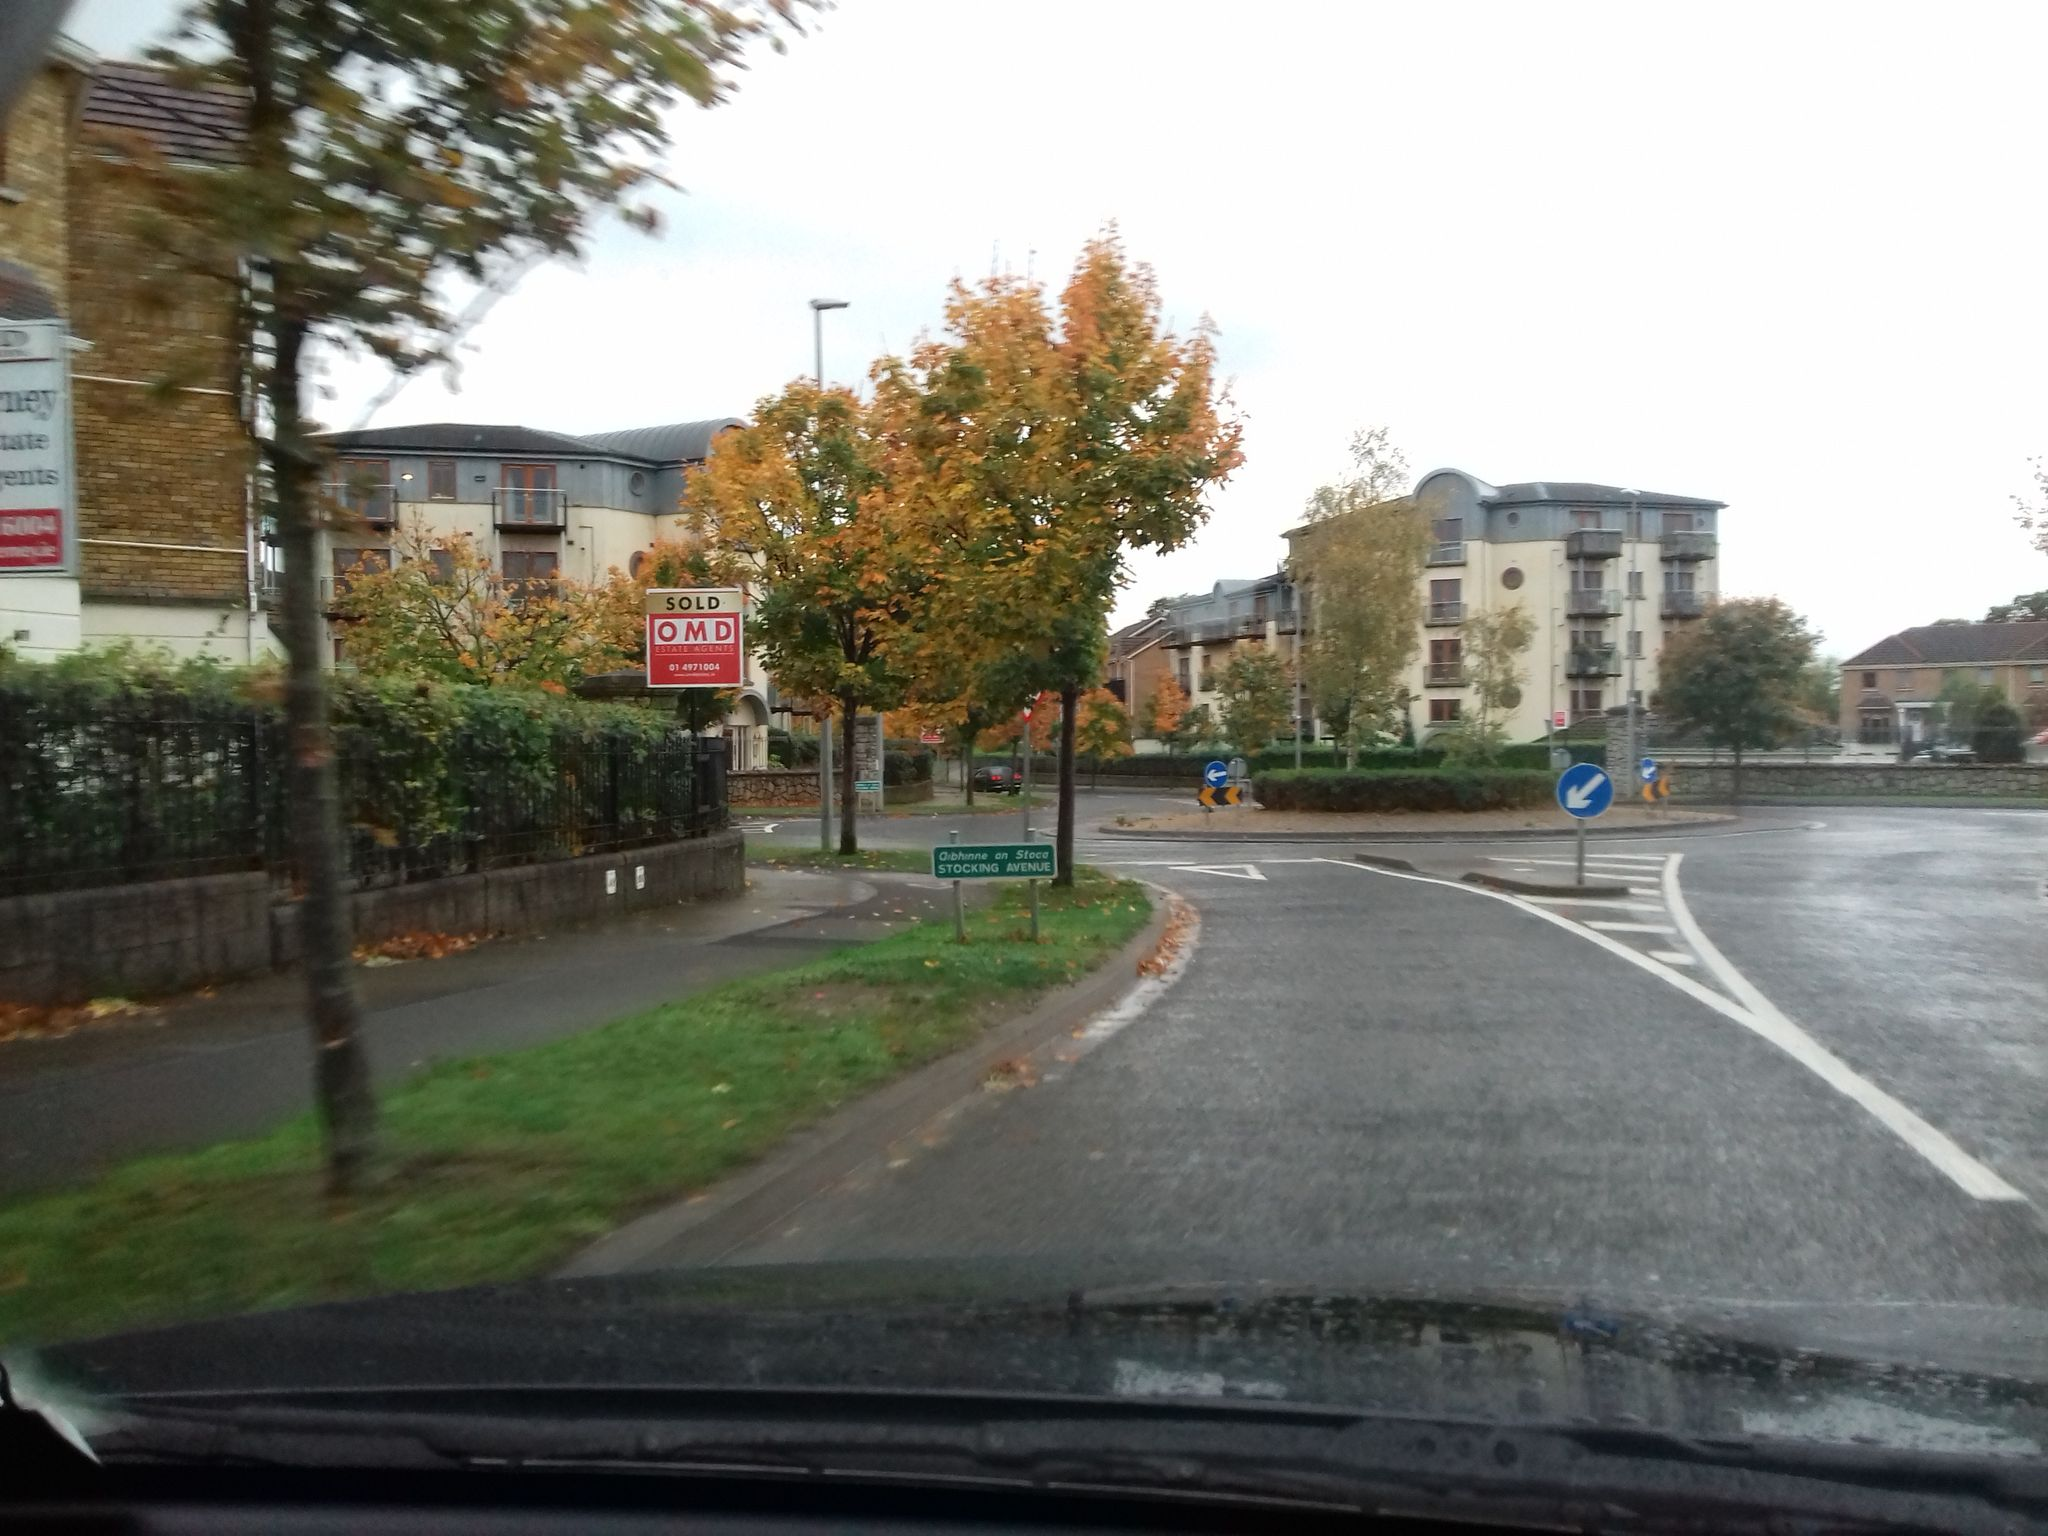property sign: (631, 565, 766, 695)
